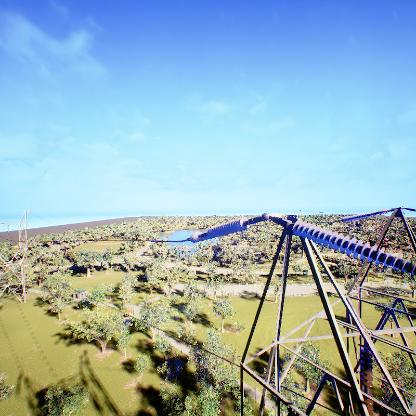insulator: (292, 218, 416, 277), (189, 216, 250, 243)
